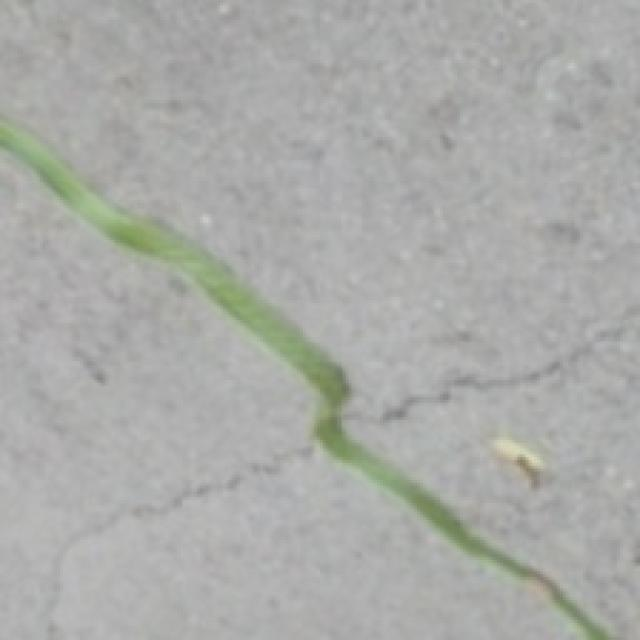red-tailed green ratsnake: (0, 120, 614, 637)
